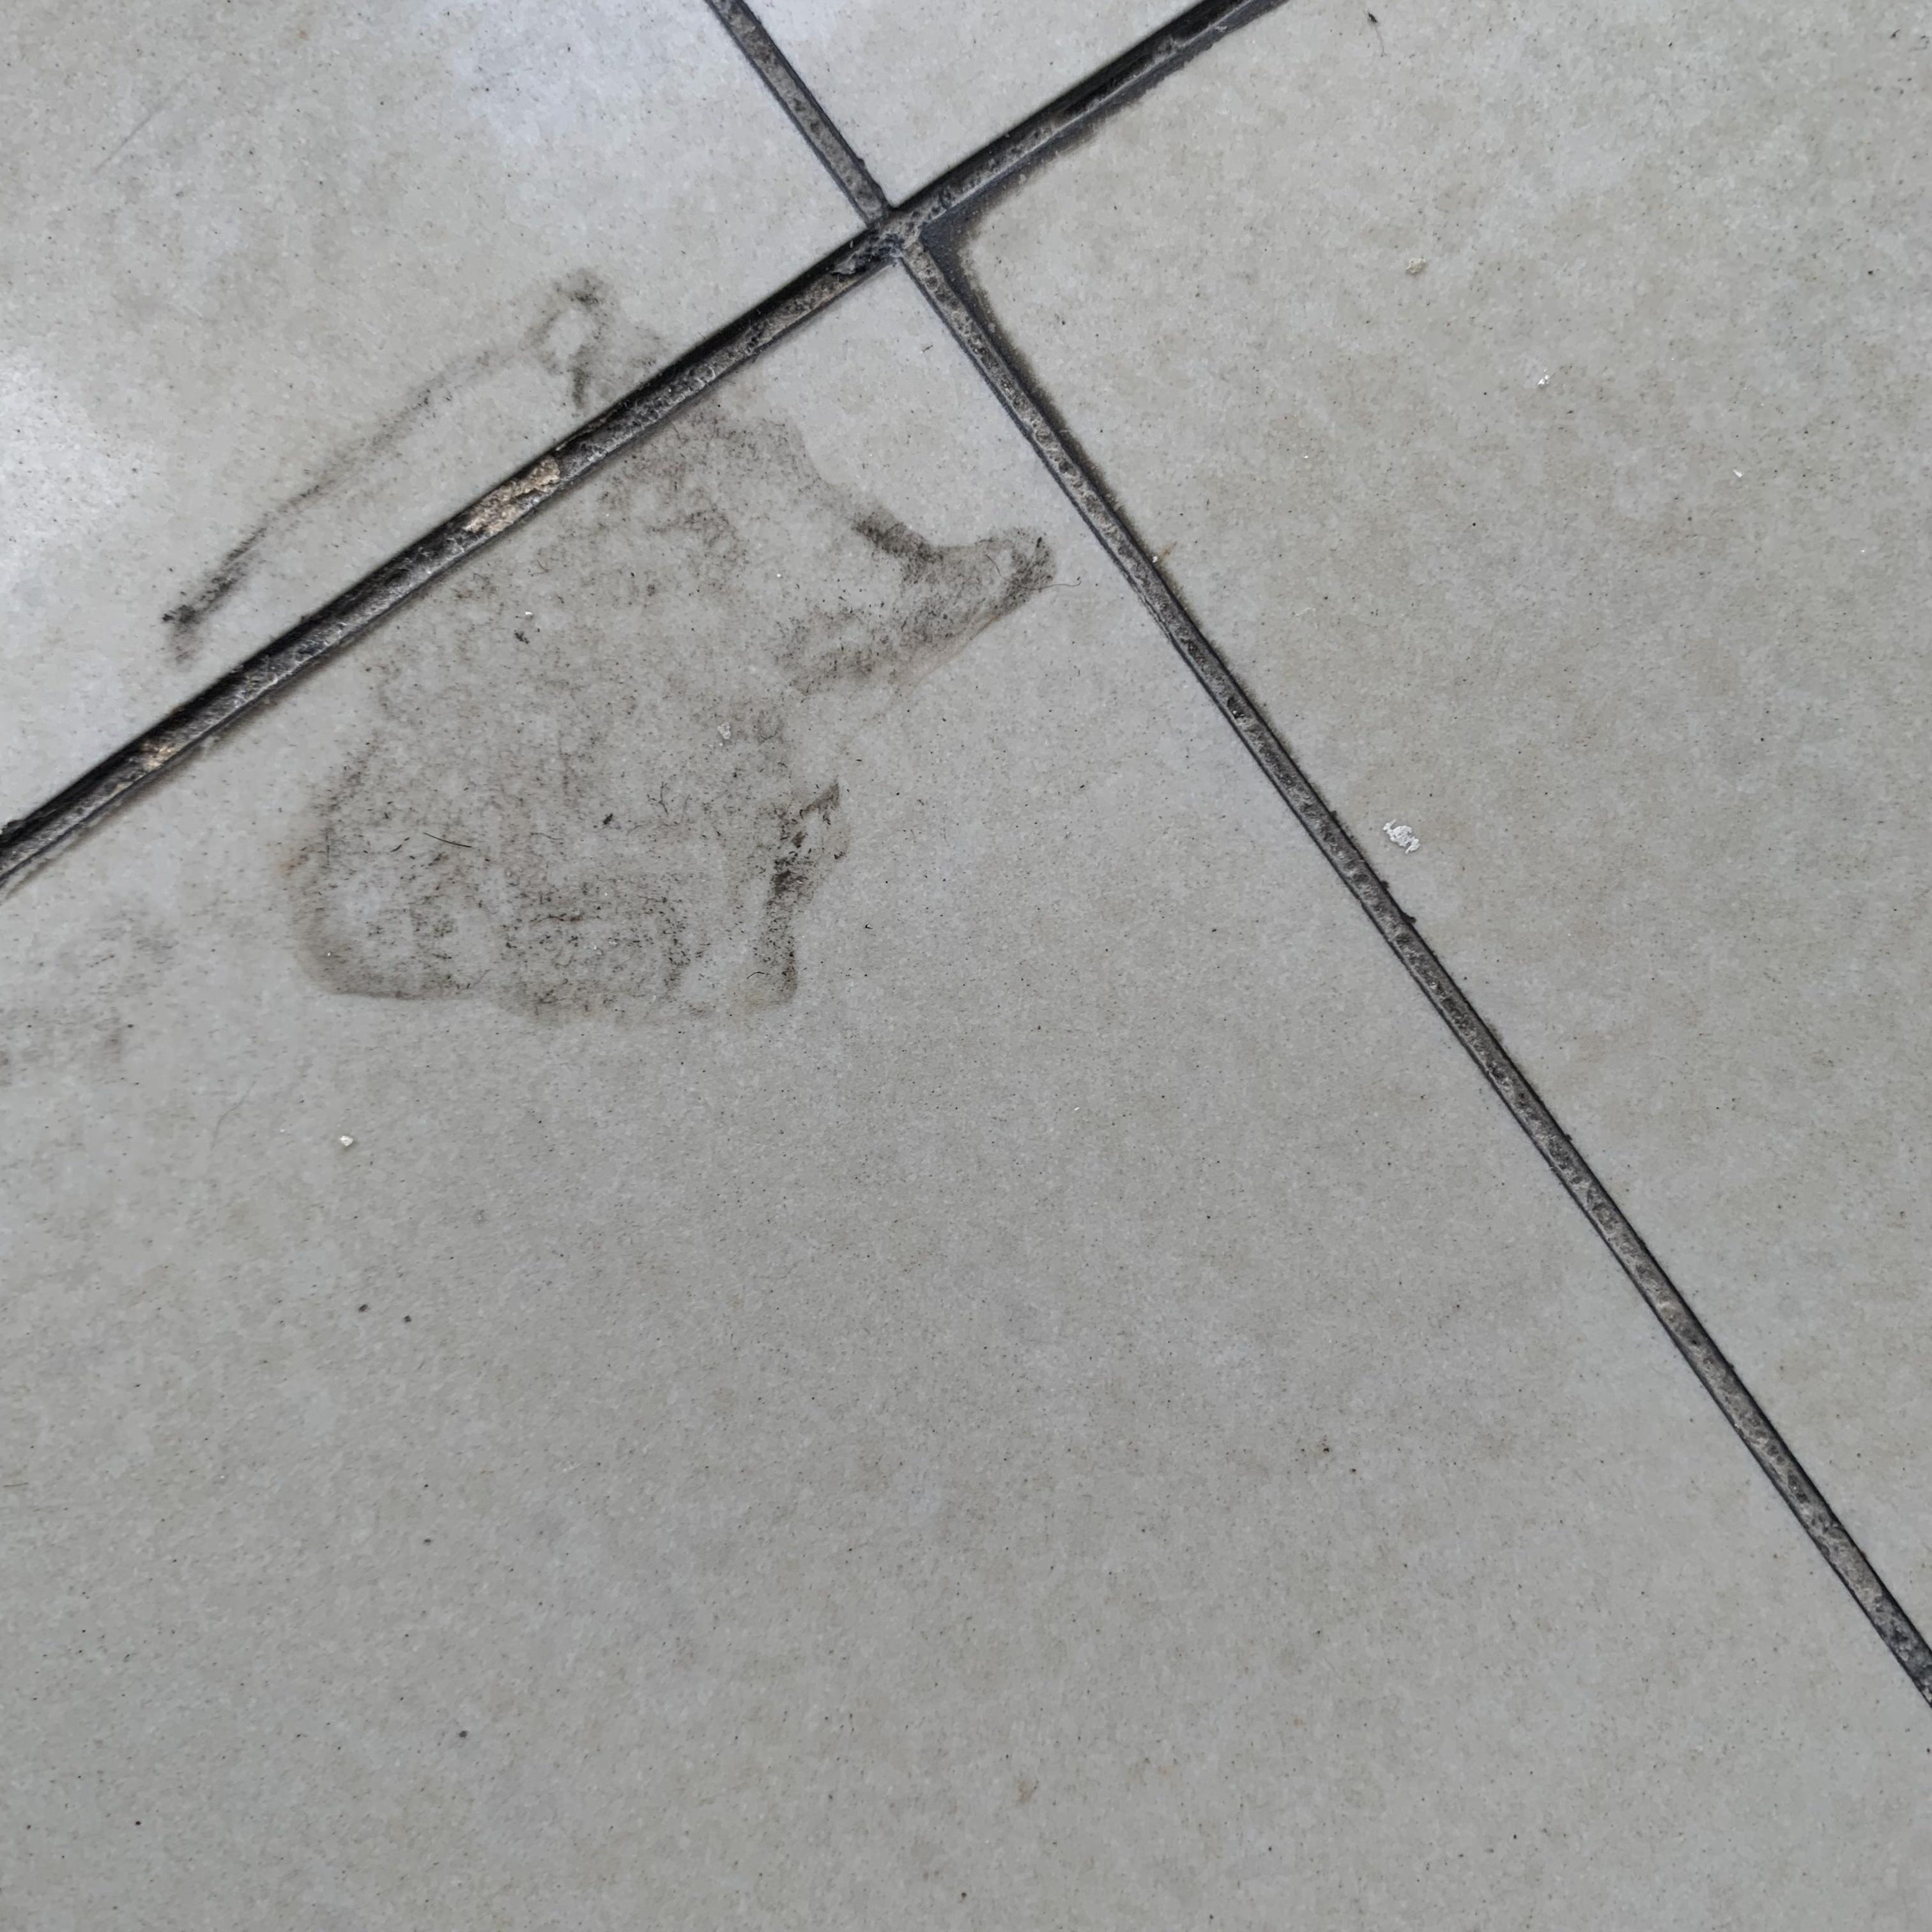grey spot: (159, 271, 1058, 1028)
reflection: (393, 0, 867, 251), (2, 326, 147, 616)
